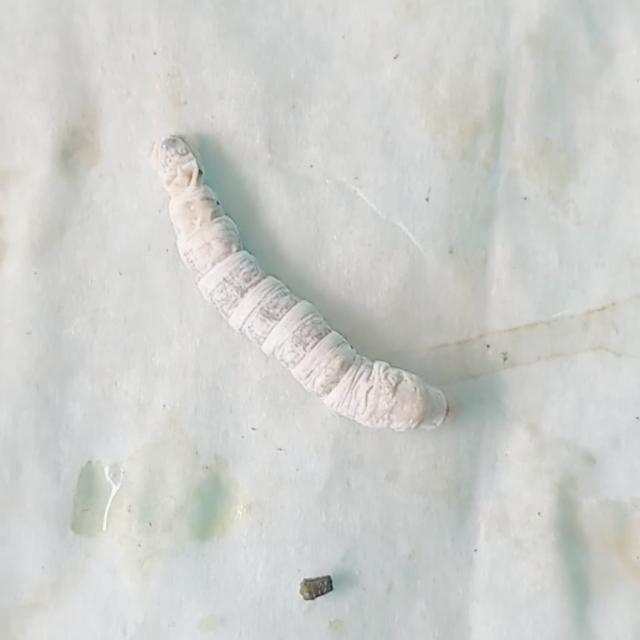Grasserie: (143, 127, 461, 454)
